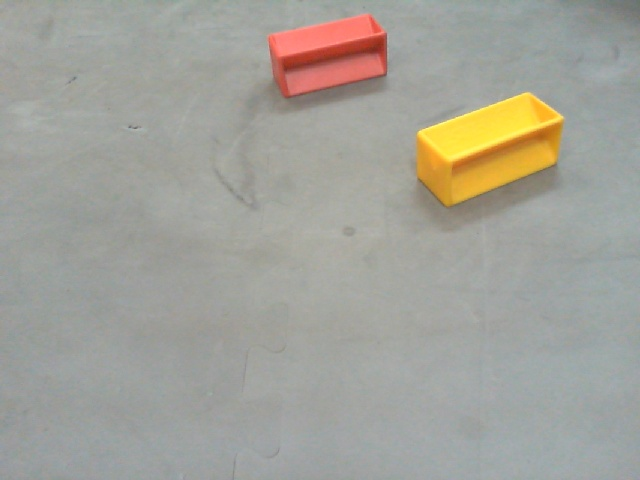RedSample: (266, 14, 391, 100)
YellowSample: (411, 93, 564, 209)
